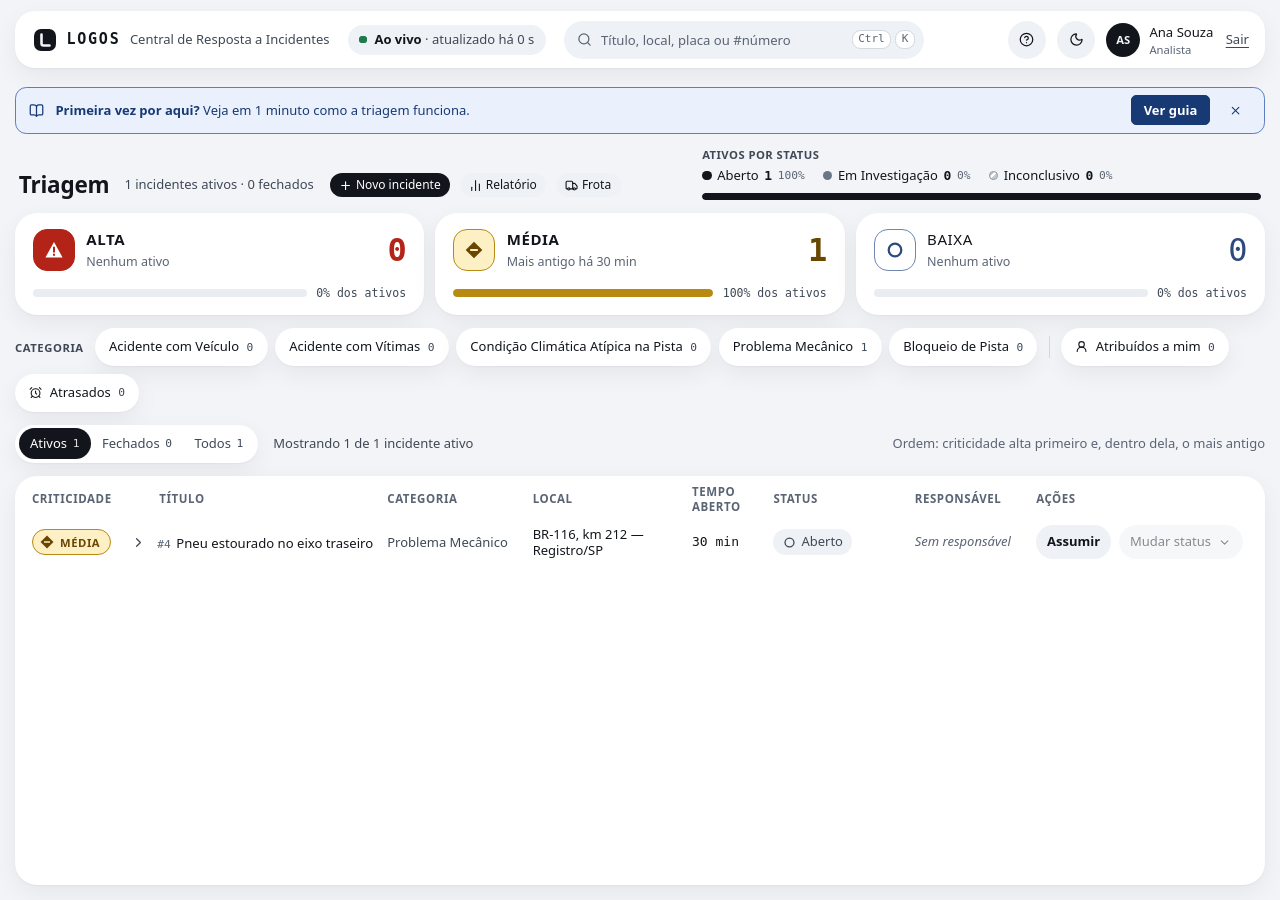
Test case: TelaTriagem › abre os detalhes da linha
Click the button named "Ver detalhes de #4" at {"x": 138, "y": 542}, box [125,529,152,555]
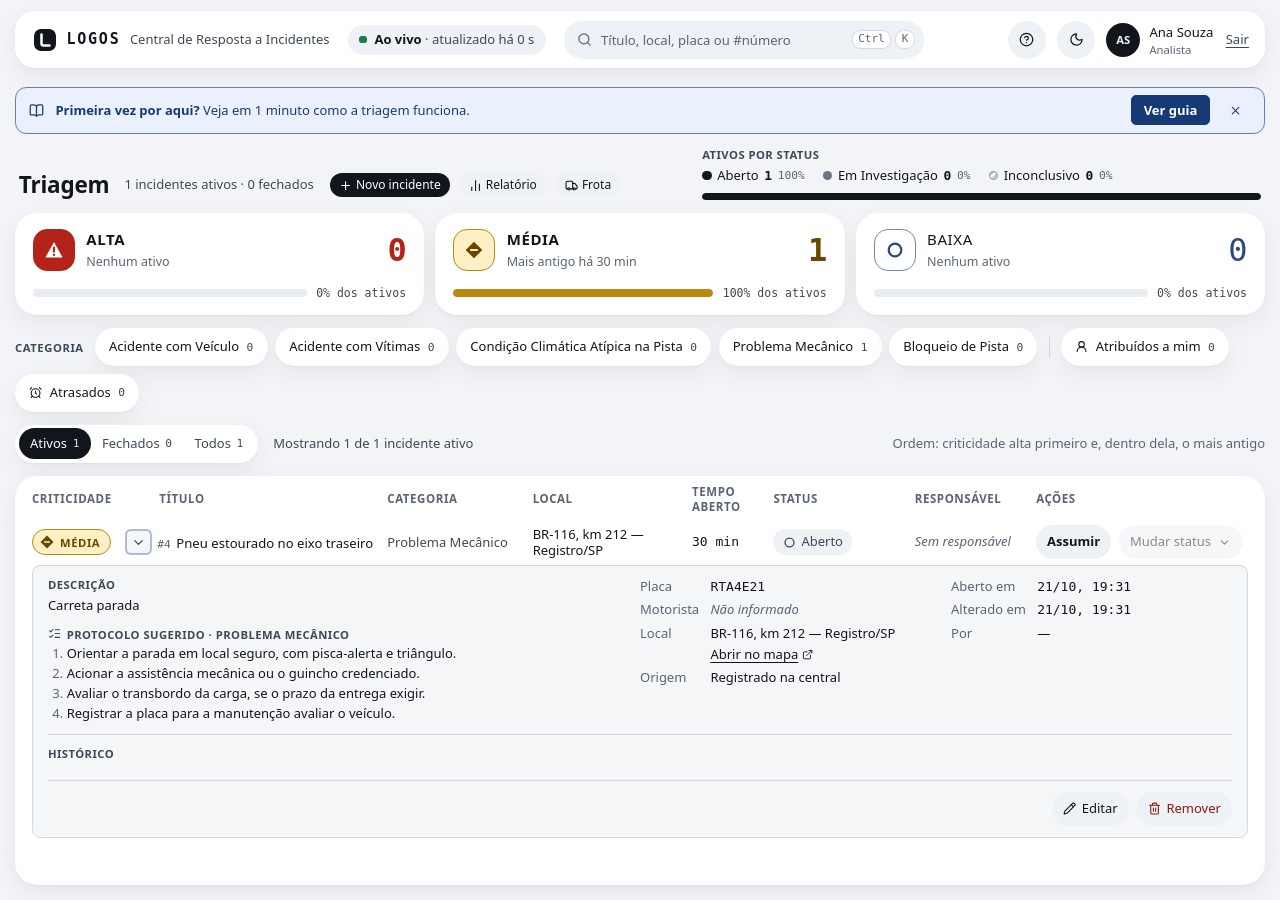
Expected: the element named "Detalhes de #4" shows "Carreta parada", [48,596,140,614]
Expected: the element named "Detalhes de #4" shows "RTA4E21", [710,579,765,594]
